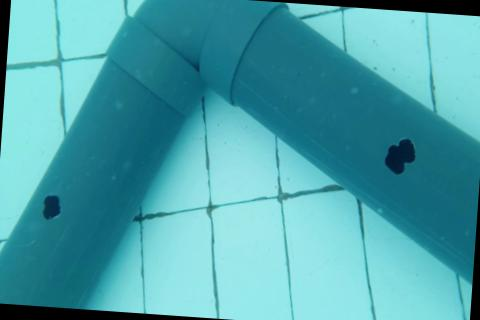kebocoran: (381, 135, 417, 177), (41, 192, 62, 221)
